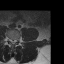CCS_normal: (12, 38, 14, 45)
LFS_normal: (15, 37, 17, 43)
LLS_normal: (13, 38, 15, 45)
RFS_normal: (8, 36, 10, 43)
RLS_normal: (10, 37, 12, 44)
